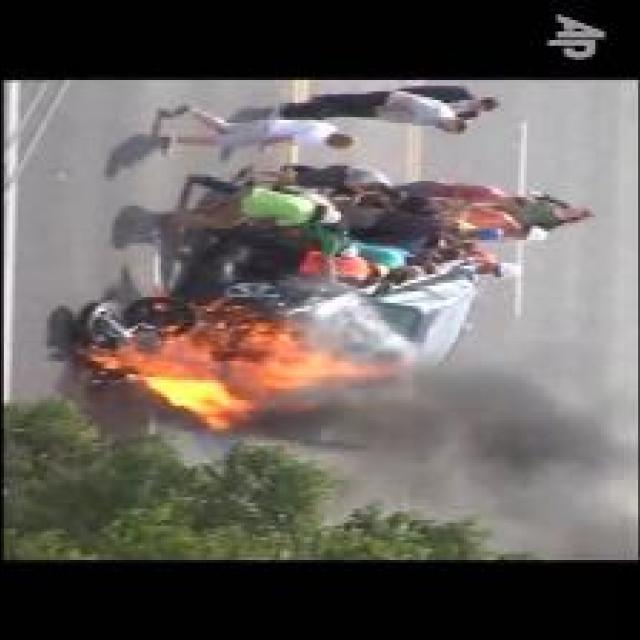Fire: (89, 302, 408, 429)
